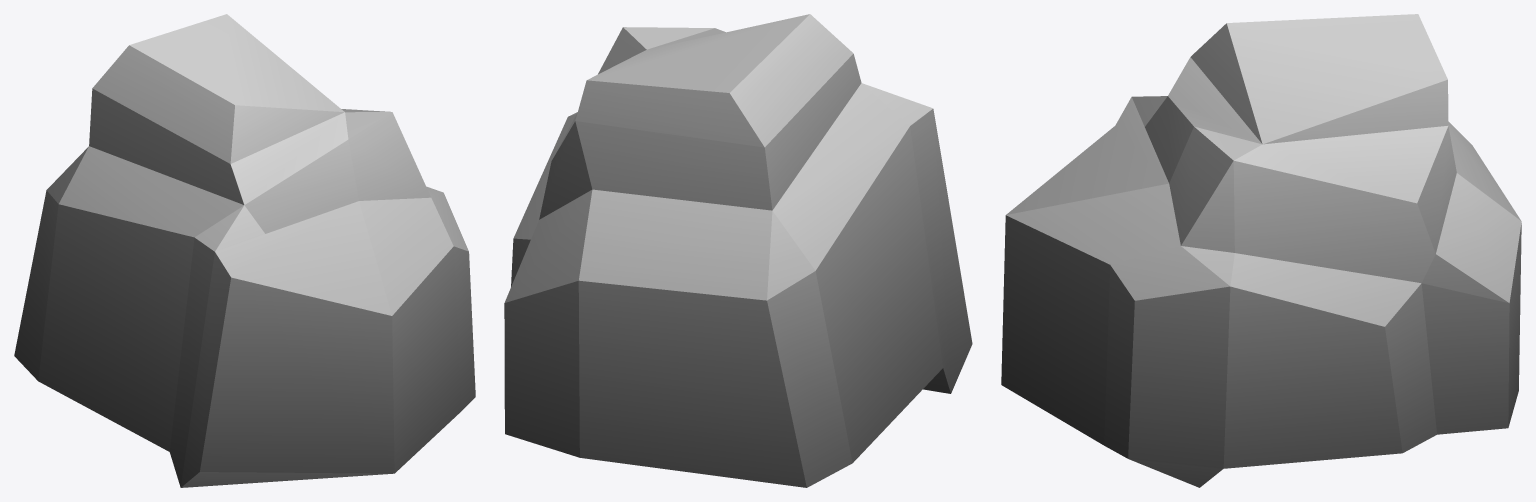
Rendered from Rock_12.fbx.
The picture shows the model from 3 angles, left to right: view 1: azimuth 30°, elevation 25°; view 2: azimuth 150°, elevation 25°; view 3: azimuth 270°, elevation 25°; orthographic projection. The views are drawn at different scales.
Visible parts, largest first — view 1: Rock_7; view 2: Rock_7; view 3: Rock_7.
Boxes of the visible parts, left/top/right/bottom form: Rock_7: left=14, top=14, right=475, bottom=487; Rock_7: left=504, top=14, right=972, bottom=487; Rock_7: left=1001, top=14, right=1521, bottom=487.
Size of the model in its own units: 87.55 by 84.94 by 110.
